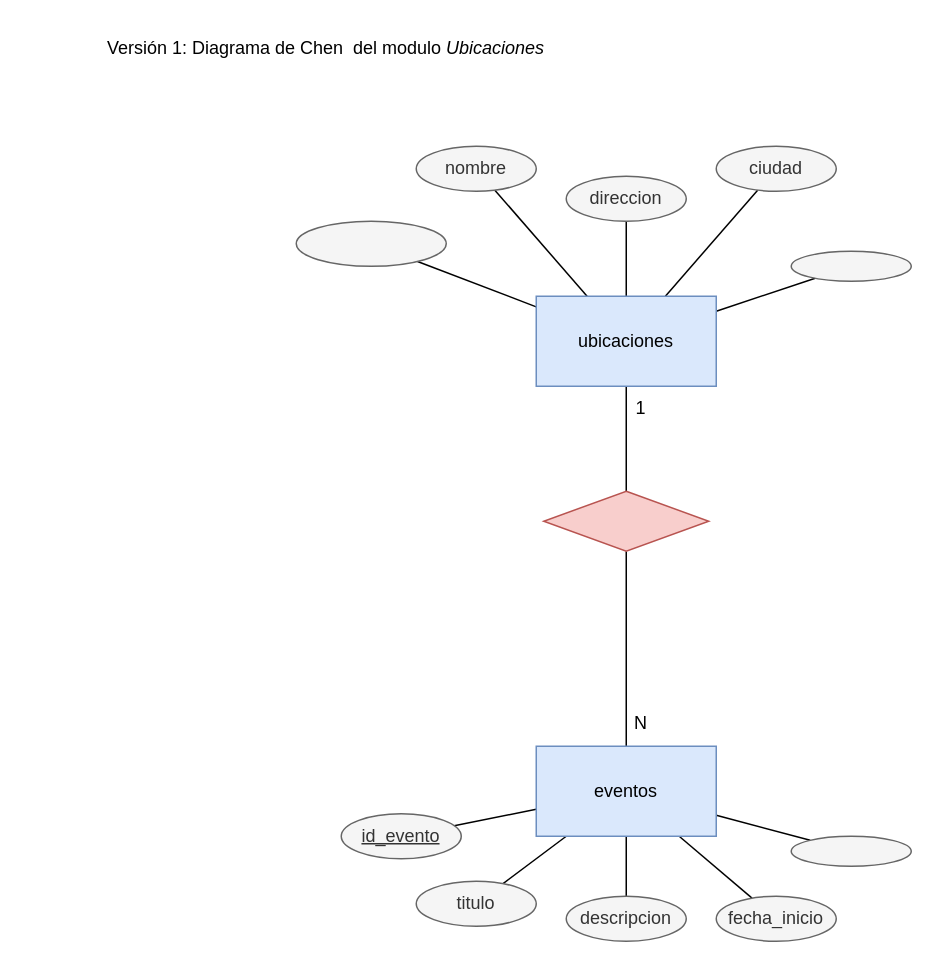
This 938x968 diagram has some shape labels left out. Here are the shapes that lost their labels. From the top down, the centre of each, then its label:
the point at 370,243: id_ubicacion
the point at 850,265: capacidad
the point at 625,520: OCURRE EN
the point at 850,850: fecha_fin
